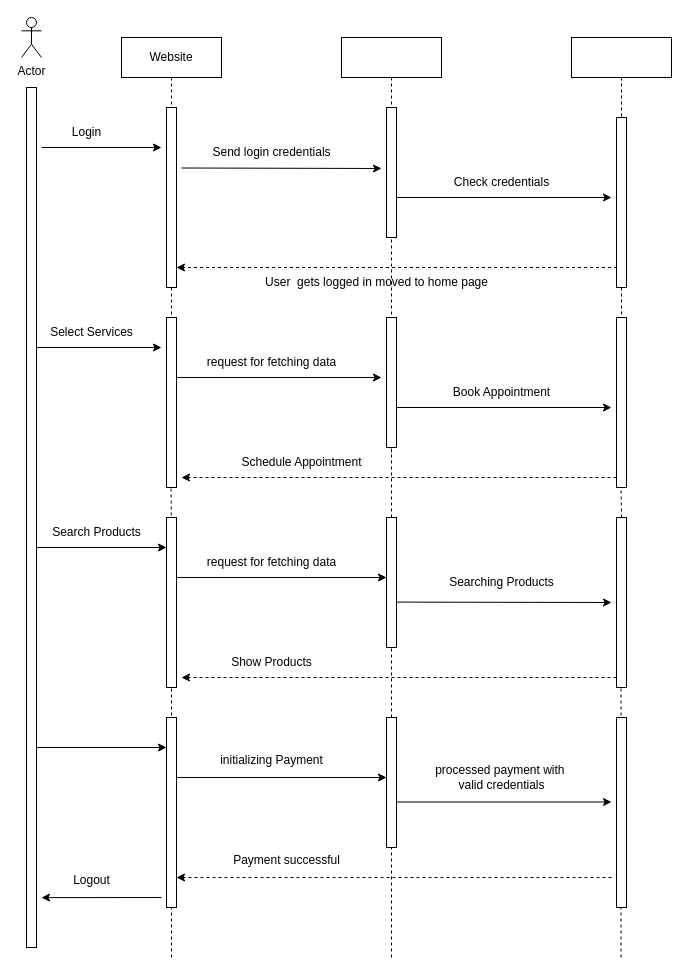
Some shapes in this 689 by 976 pixel diagram are drawn without their labels. The shapes that lost their labels are listed below. From the top down, each one's box as (x1, y1, x2, y2) in pixels, then its label:
(340, 36, 442, 338): Backend
(570, 36, 672, 338): Database
